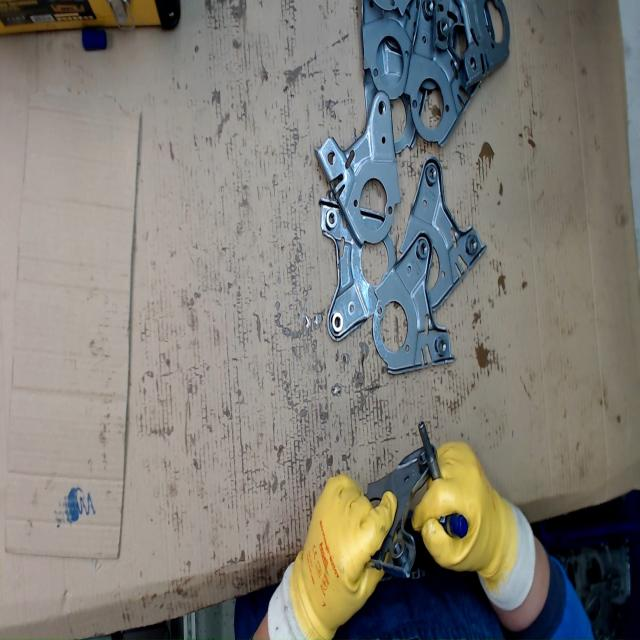hands: (294, 473, 398, 640), (411, 441, 518, 576)
